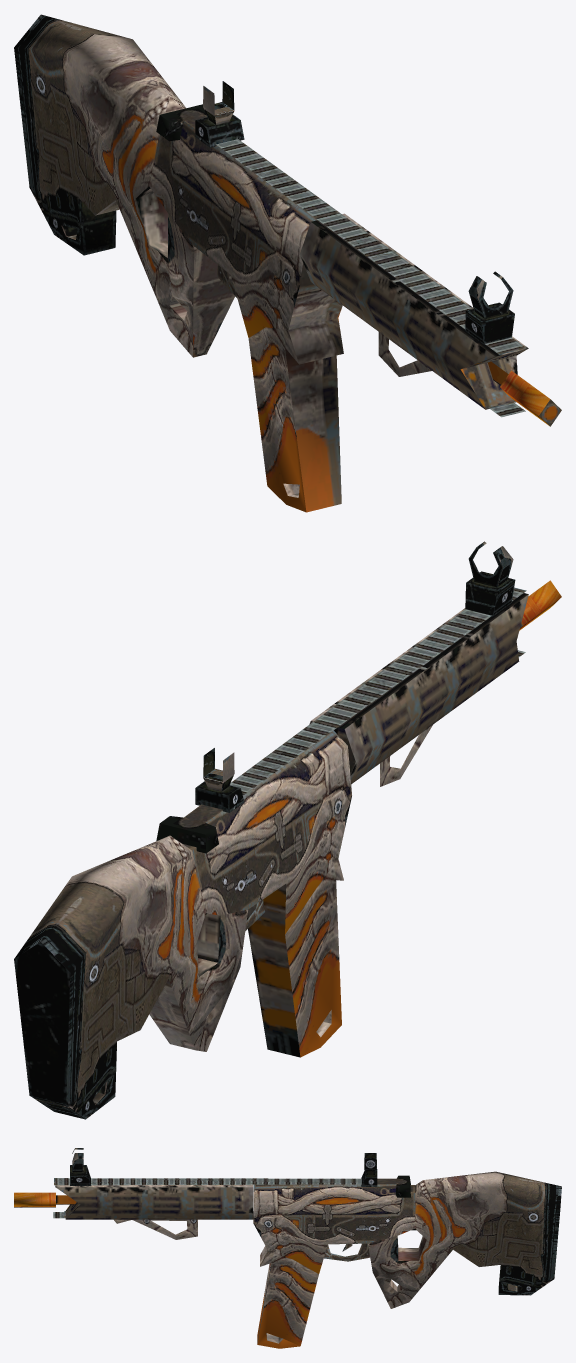
Rendered from Assault_Rifle_bq_qs_01_gulong_lod2_BoneDragon_Skin_Body_LOD_(001025).glb.
3 renders of one model, top to bottom at view 1: azimuth 30°, elevation 25°; view 2: azimuth 150°, elevation 25°; view 3: azimuth 270°, elevation 25°, orthographic. The views are drawn at different scales.
Visible parts, largest first — view 1: bq_qs_01_gulong_lod2; view 2: bq_qs_01_gulong_lod2; view 3: bq_qs_01_gulong_lod2.
Part boxes in pixels (bbox=[...]): bq_qs_01_gulong_lod2: bbox=[14, 14, 561, 512]; bq_qs_01_gulong_lod2: bbox=[14, 541, 561, 1119]; bq_qs_01_gulong_lod2: bbox=[14, 1148, 561, 1348].
Size of the model in its own units: 0.062 by 0.3483 by 0.8927.
Materials: 1 (1 with a texture image).
